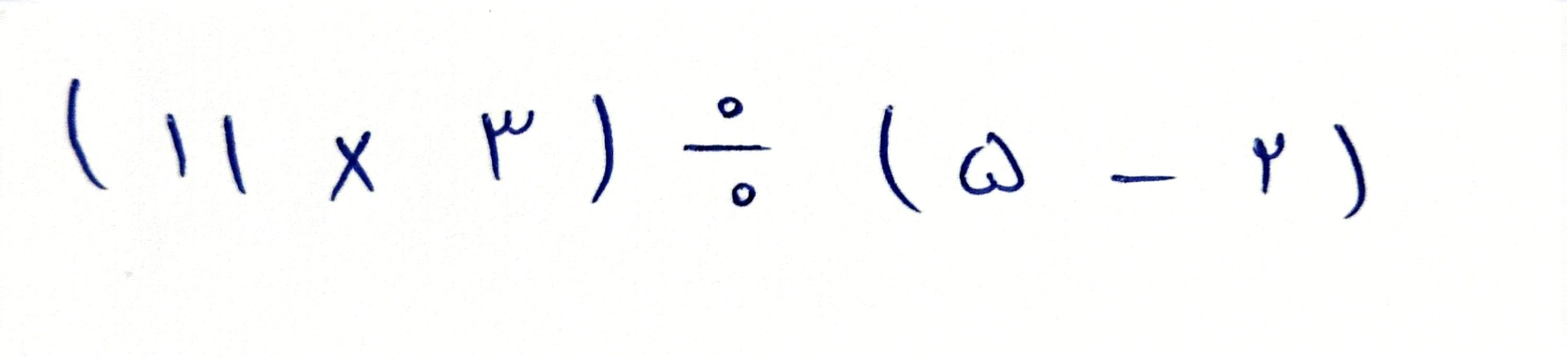character: (682, 97, 776, 207), (65, 77, 113, 192), (880, 104, 923, 217), (481, 109, 541, 183), (958, 130, 1020, 199), (1332, 122, 1369, 221), (582, 95, 613, 206), (329, 129, 375, 203), (1254, 131, 1289, 199), (222, 113, 244, 196), (164, 112, 187, 181), (1112, 174, 1177, 185)
